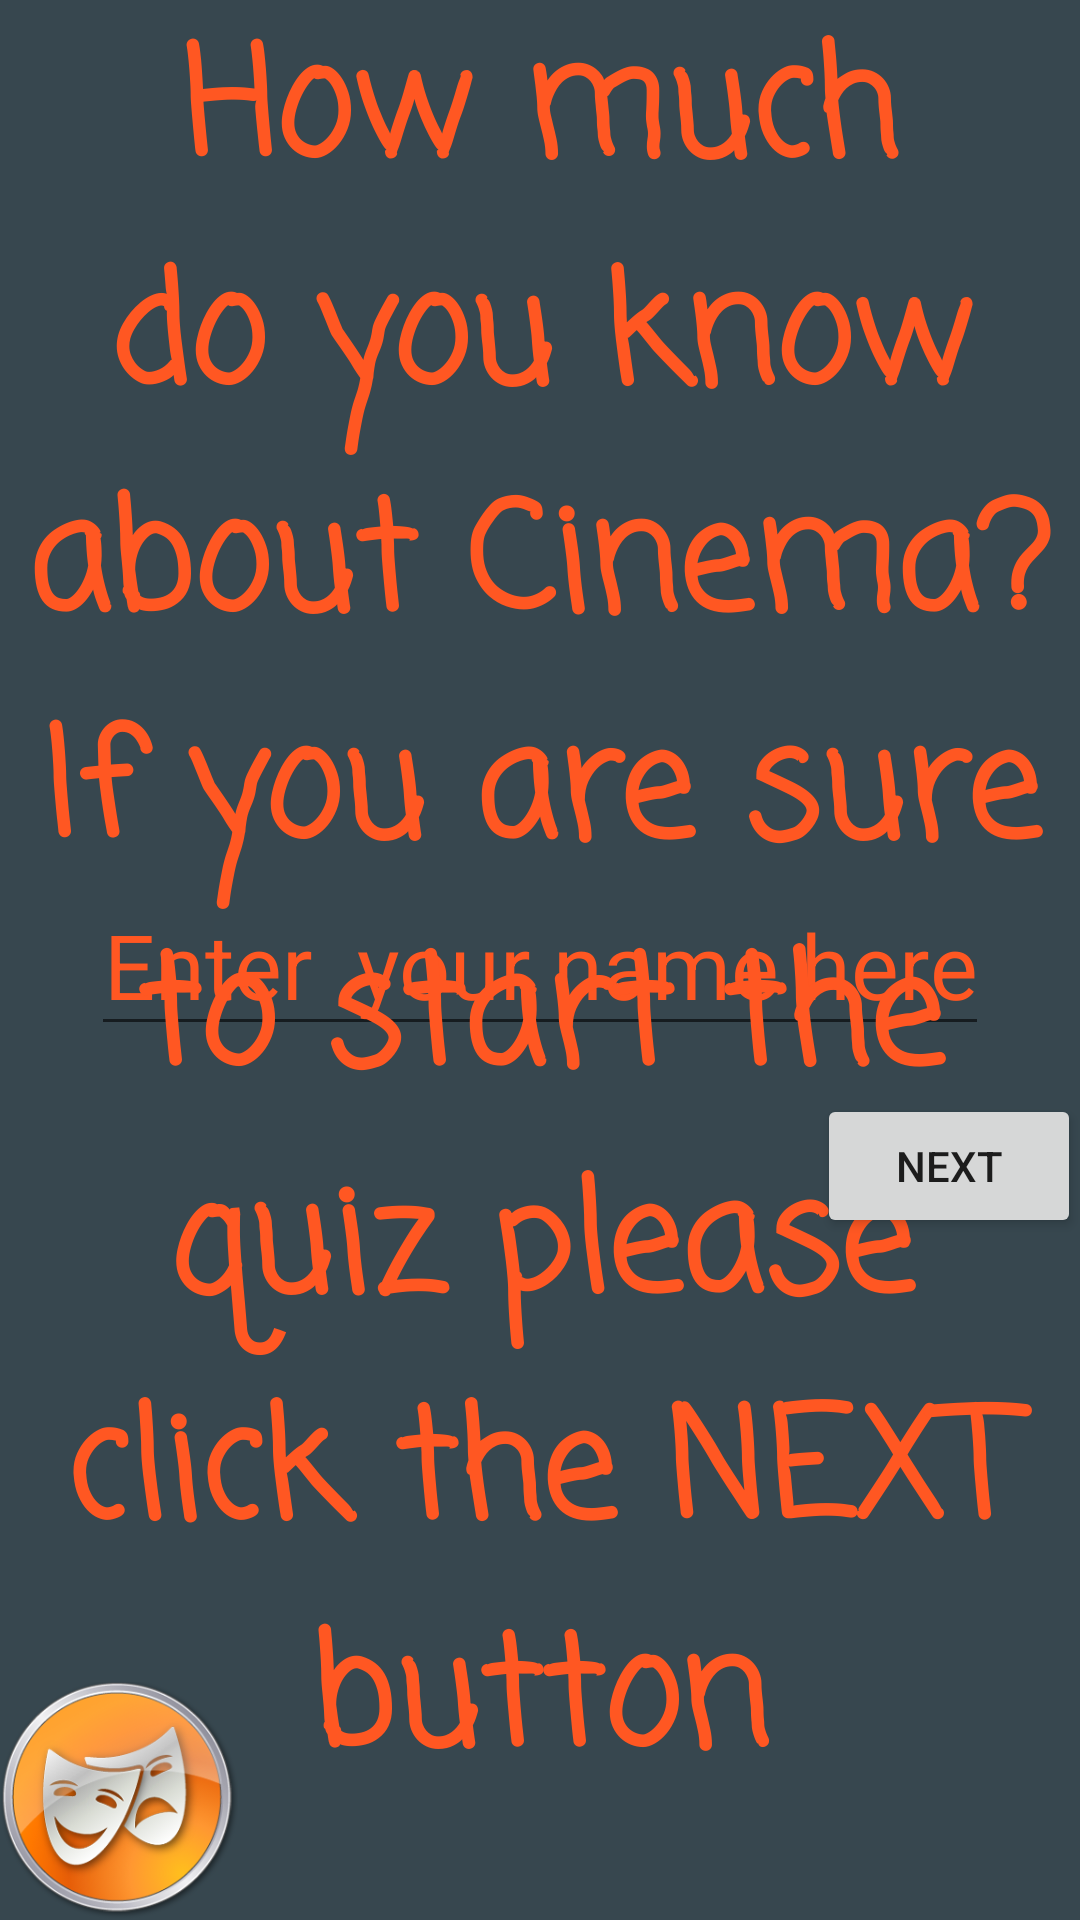

Named icons in this screenshot (1080x1920) and their bounding boxes, (x1, y1, x2, y2):
theater: (3, 1683, 232, 1913)
